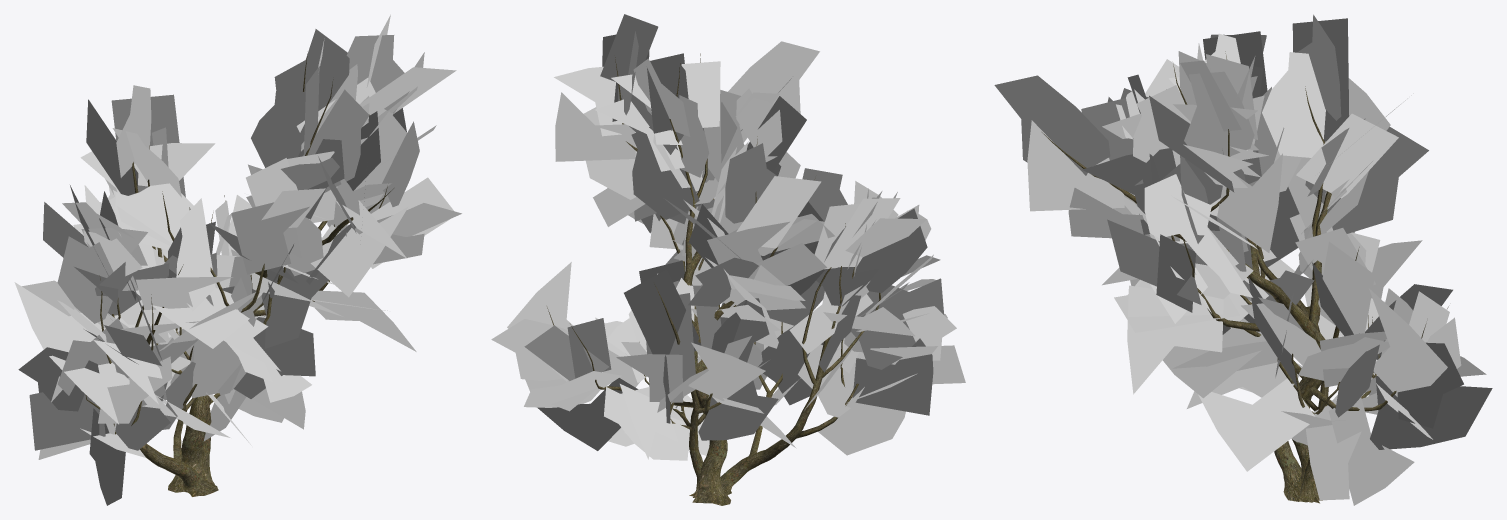
Rendered from Tree_5656.fbx.
3 renders of one model, left to right at view 1: azimuth 30°, elevation 25°; view 2: azimuth 150°, elevation 25°; view 3: azimuth 270°, elevation 25°, orthographic. The views are drawn at different scales.
Visible parts, largest first — view 1: Tree_5656_Viaz_AT, Tree_5656_VIAZ_bARK; view 2: Tree_5656_Viaz_AT, Tree_5656_VIAZ_bARK; view 3: Tree_5656_Viaz_AT, Tree_5656_VIAZ_bARK.
Part boxes in pixels (x1,y1,x2,y2): Tree_5656_Viaz_AT: (14, 14, 461, 505); Tree_5656_VIAZ_bARK: (85, 54, 393, 496); Tree_5656_Viaz_AT: (491, 14, 965, 460); Tree_5656_VIAZ_bARK: (547, 53, 880, 505); Tree_5656_Viaz_AT: (994, 14, 1492, 505); Tree_5656_VIAZ_bARK: (1042, 51, 1448, 503).
Bounding box in the file's own units: 94.3 × 98.84 × 87.55.
